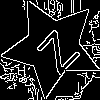Z: (27, 22, 81, 76)
